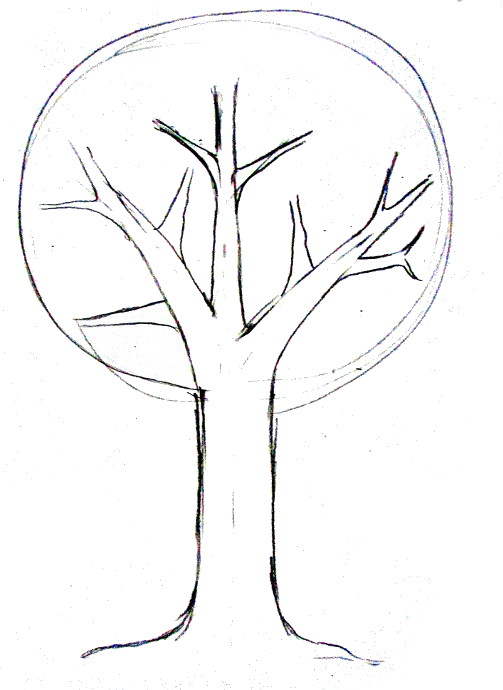tree: (10, 10, 471, 650)
